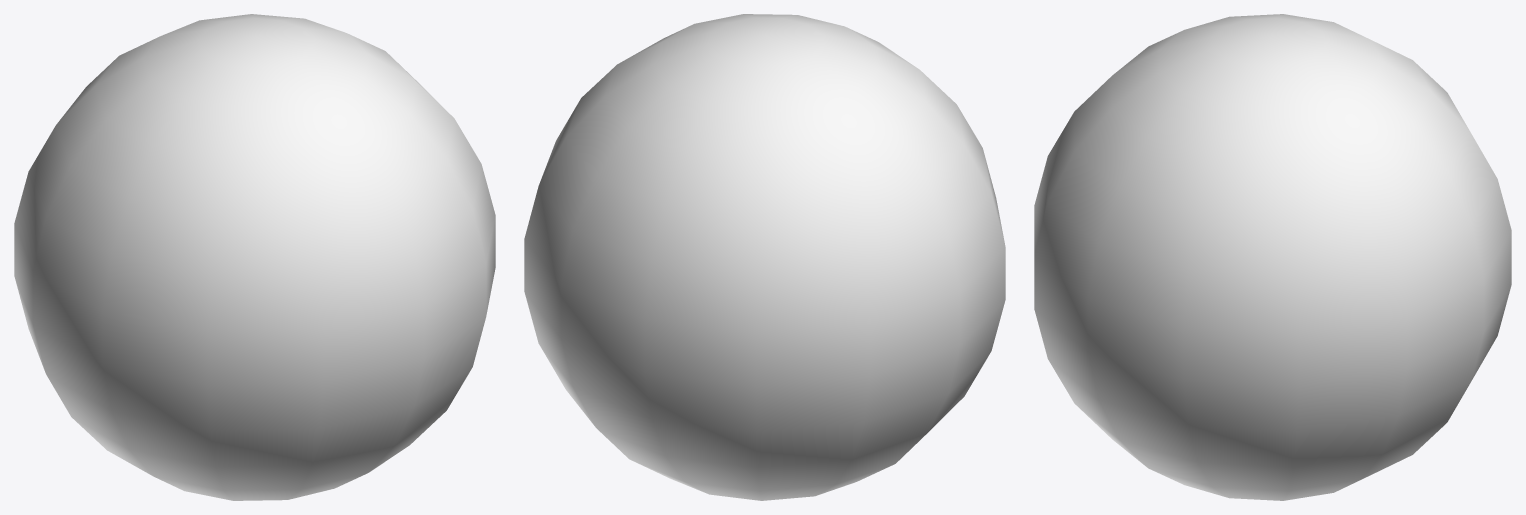
Rendered from D_Ball12_00.fbx.
3 renders of one model, left to right at view 1: azimuth 30°, elevation 25°; view 2: azimuth 150°, elevation 25°; view 3: azimuth 270°, elevation 25°, orthographic.
Parts seen in each view (by area): view 1: D_Ball12_00; view 2: D_Ball12_00; view 3: D_Ball12_00.
Part boxes in pixels (x1,y1,x2,y2): D_Ball12_00: [14, 14, 495, 500]; D_Ball12_00: [524, 14, 1005, 500]; D_Ball12_00: [1034, 14, 1511, 500].
Bounding box in the file's own units: 0.9798 × 0.9943 × 0.9727.
